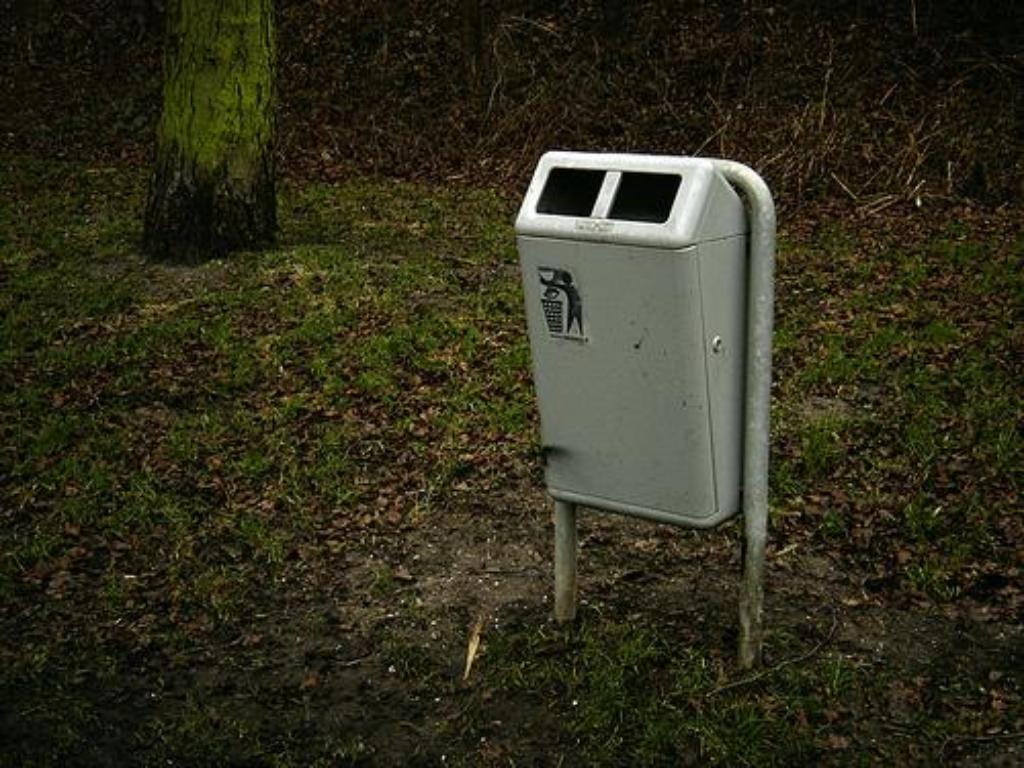dustbin: (515, 128, 787, 656)
